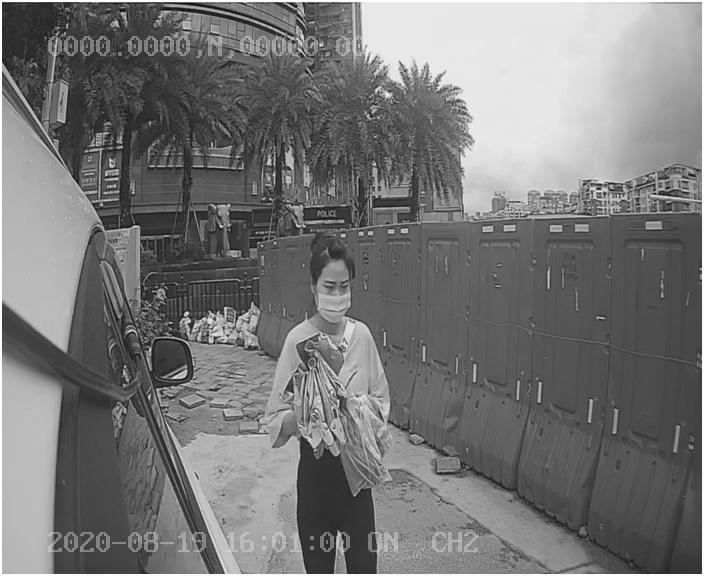person: (260, 228, 404, 534)
